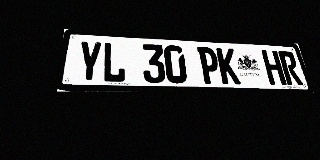0: (164, 45, 187, 84)
3: (142, 44, 166, 83)
H: (261, 50, 287, 85)
K: (216, 48, 241, 84)
L: (102, 42, 126, 83)
P: (197, 47, 222, 84)
R: (278, 51, 303, 85)
Y: (76, 40, 102, 82)
